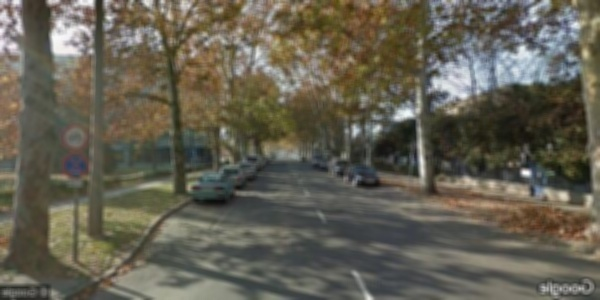e_no_stop_park: (60, 151, 90, 180)
f_others: (60, 123, 88, 150)
